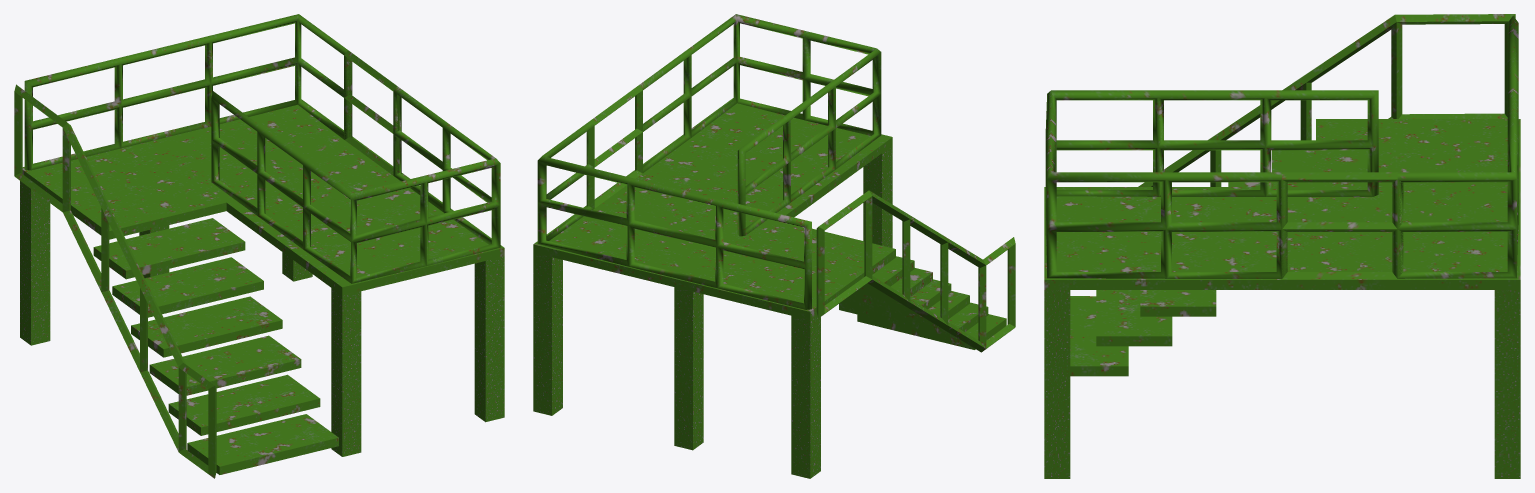
File: platform_rusty.gltf
3 views of the same model, side by side, from view 1: azimuth 30°, elevation 25°; view 2: azimuth 150°, elevation 25°; view 3: azimuth 270°, elevation 25° (orthographic). The views are drawn at different scales.
Parts seen in each view (by area): view 1: treppen.applied, treppenplattform, barrier, handrailtreppe, stuetze.001, stuetze, stuetze.004, barrierdoor; view 2: treppenplattform, barrier, treppen.applied, handrailtreppe, stuetze.004, stuetze.003, stuetze.002, barrierdoor, stuetze; view 3: treppenplattform, barrier, treppen.applied, handrailtreppe, stuetze.001, stuetze.003, barrierdoor.
Part boxes in pixels (box(x1,y1,x2,y2)): treppen.applied: box(75, 179, 338, 474); treppenplattform: box(22, 99, 504, 295); barrier: box(24, 14, 500, 283); handrailtreppe: box(14, 84, 216, 478); stuetze.001: box(474, 256, 504, 422); stuetze: box(331, 288, 361, 456); stuetze.004: box(20, 181, 50, 345); barrierdoor: box(344, 50, 399, 175); treppenplattform: box(533, 98, 892, 319); barrier: box(537, 14, 881, 309); treppen.applied: box(748, 221, 1006, 349); handrailtreppe: box(816, 190, 1015, 352); stuetze.004: box(791, 315, 820, 478); stuetze.003: box(533, 252, 562, 415); stuetze.002: box(674, 287, 703, 450); barrierdoor: box(586, 85, 642, 208); stuetze: box(863, 145, 892, 247); treppenplattform: box(1044, 119, 1520, 289); barrier: box(1045, 16, 1518, 278); treppen.applied: box(1070, 119, 1391, 376); handrailtreppe: box(1070, 14, 1515, 297); stuetze.001: box(1044, 290, 1070, 478); stuetze.003: box(1494, 290, 1520, 478); barrierdoor: box(1281, 172, 1403, 278).
Size of the model in its own units: 3.6 by 3.05 by 4.34.
1 material, 1 textured.
